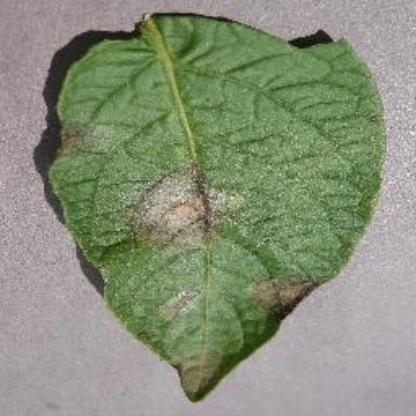Late-Blight: (36, 7, 388, 407)
